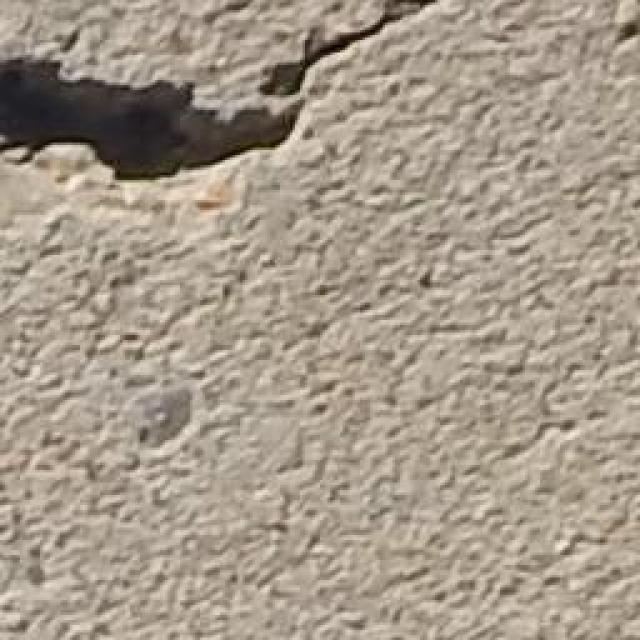concrete-crack: (1, 1, 445, 187)
